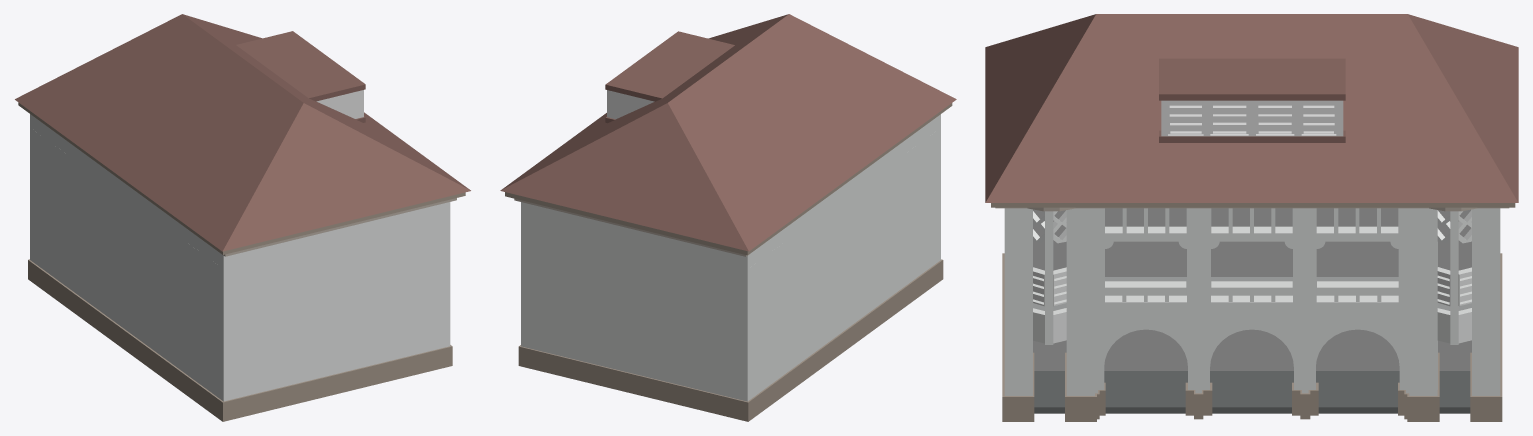
Rendered from Market.fbx.
3 renders of one model, left to right at view 1: azimuth 30°, elevation 25°; view 2: azimuth 150°, elevation 25°; view 3: azimuth 270°, elevation 25°, orthographic. The views are drawn at different scales.
Parts seen in each view (by area): view 1: Cube, Cylinder, Cube.004, Cube.005, Cube.008, Cube.001; view 2: Cube, Cylinder, Cube.004, Cube.005, Cube.008, Cube.001; view 3: Cylinder, Cube, Cube.006, Cube.003, Cube.008, Cube.004, Cube.005, Cube.002, Cube.001.
Part boxes in pixels (box(x1,y1,x2,y2)): Cube: box(30, 114, 450, 401); Cylinder: box(15, 14, 470, 251); Cube.004: box(28, 259, 452, 421); Cube.005: box(18, 102, 465, 254); Cube.008: box(316, 90, 363, 118); Cube.001: box(223, 198, 456, 256); Cube: box(521, 114, 940, 401); Cylinder: box(500, 14, 956, 251); Cube.004: box(518, 259, 943, 421); Cube.005: box(505, 103, 952, 255); Cube.008: box(607, 90, 654, 119); Cube.001: box(514, 198, 747, 256); Cylinder: box(985, 14, 1518, 202); Cube: box(1004, 208, 1500, 395); Cube.006: box(1033, 208, 1471, 370); Cube.003: box(1034, 371, 1470, 413); Cube.008: box(1161, 100, 1343, 136); Cube.004: box(1002, 253, 1502, 421); Cube.005: box(991, 203, 1515, 207); Cube.002: box(1033, 277, 1471, 310); Cube.001: box(995, 207, 1508, 211).
Size of the model in its own units: 4464 by 4514 by 6457.
